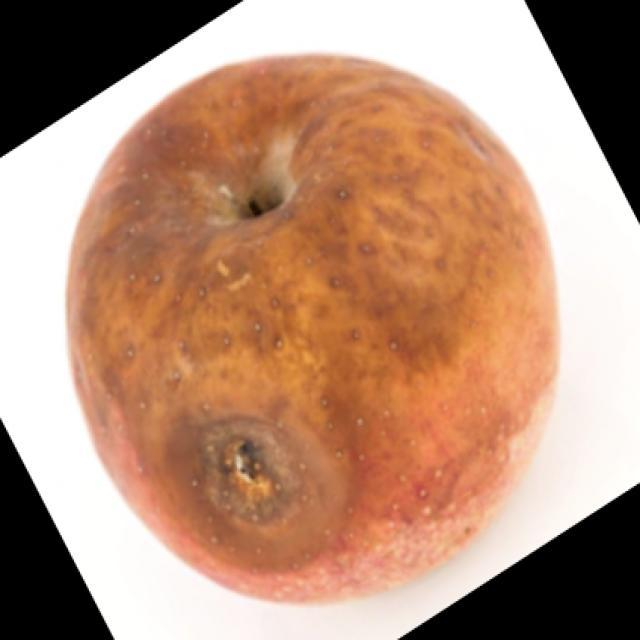Rotten: (94, 51, 554, 592)
